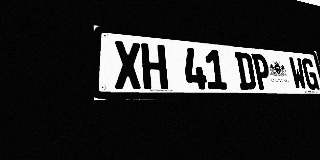1: (203, 49, 227, 90)
4: (182, 47, 208, 90)
D: (234, 52, 257, 90)
G: (301, 58, 320, 90)
H: (141, 43, 168, 89)
P: (251, 53, 272, 90)
W: (288, 57, 308, 90)
X: (113, 41, 143, 89)
